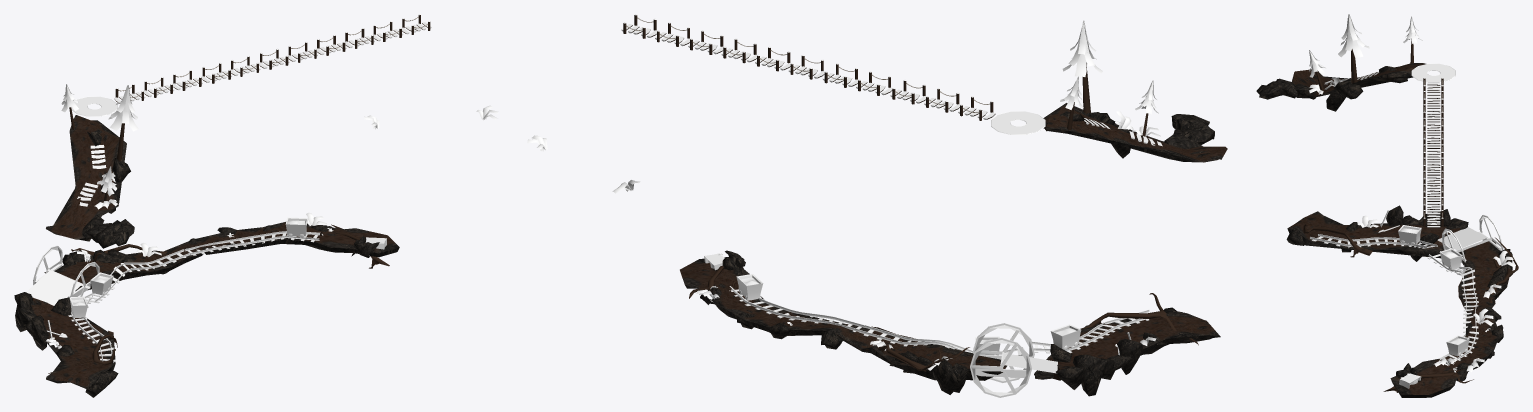
File: LoveDeath_Tower_Bridge_Art.fbx
3 views of the same model, side by side, from view 1: azimuth 30°, elevation 25°; view 2: azimuth 150°, elevation 25°; view 3: azimuth 270°, elevation 25° (orthographic). The views are drawn at different scales.
Parts seen in each view (by area): view 1: LoveDeath_Tower_Bridge_Art; view 2: LoveDeath_Tower_Bridge_Art; view 3: LoveDeath_Tower_Bridge_Art.
Part boxes in pixels (x1=…): LoveDeath_Tower_Bridge_Art: x1=14, y1=14, x2=498, y2=397; LoveDeath_Tower_Bridge_Art: x1=527, y1=14, x2=1227, y2=397; LoveDeath_Tower_Bridge_Art: x1=1256, y1=14, x2=1518, y2=397.
Bounding box in the file's own units: 6248 × 3140 × 2884.
